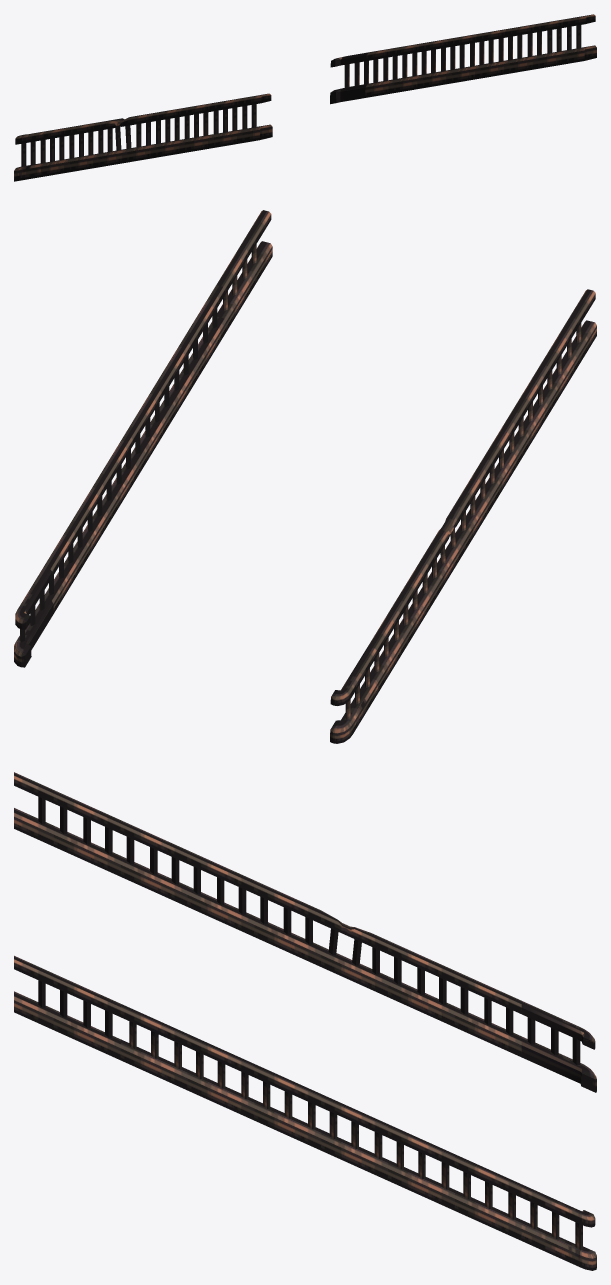
The model's file is EnvBdgMD_Factory_B_Fenece_A_Unique_A.FBX.
3 views of the same model, one above another, from view 1: azimuth 30°, elevation 25°; view 2: azimuth 150°, elevation 25°; view 3: azimuth 270°, elevation 25° (orthographic). The views are drawn at different scales.
Visible parts, largest first — view 1: EnvBdgMD_Factory_B_Fenece_A_Unique_A; view 2: EnvBdgMD_Factory_B_Fenece_A_Unique_A; view 3: EnvBdgMD_Factory_B_Fenece_A_Unique_A.
Boxes of the visible parts, bbox=[...] form: EnvBdgMD_Factory_B_Fenece_A_Unique_A: bbox=[14, 14, 596, 181]; EnvBdgMD_Factory_B_Fenece_A_Unique_A: bbox=[14, 210, 596, 743]; EnvBdgMD_Factory_B_Fenece_A_Unique_A: bbox=[14, 772, 596, 1270].
Bounding box in the file's own units: 675 × 519 × 872.
